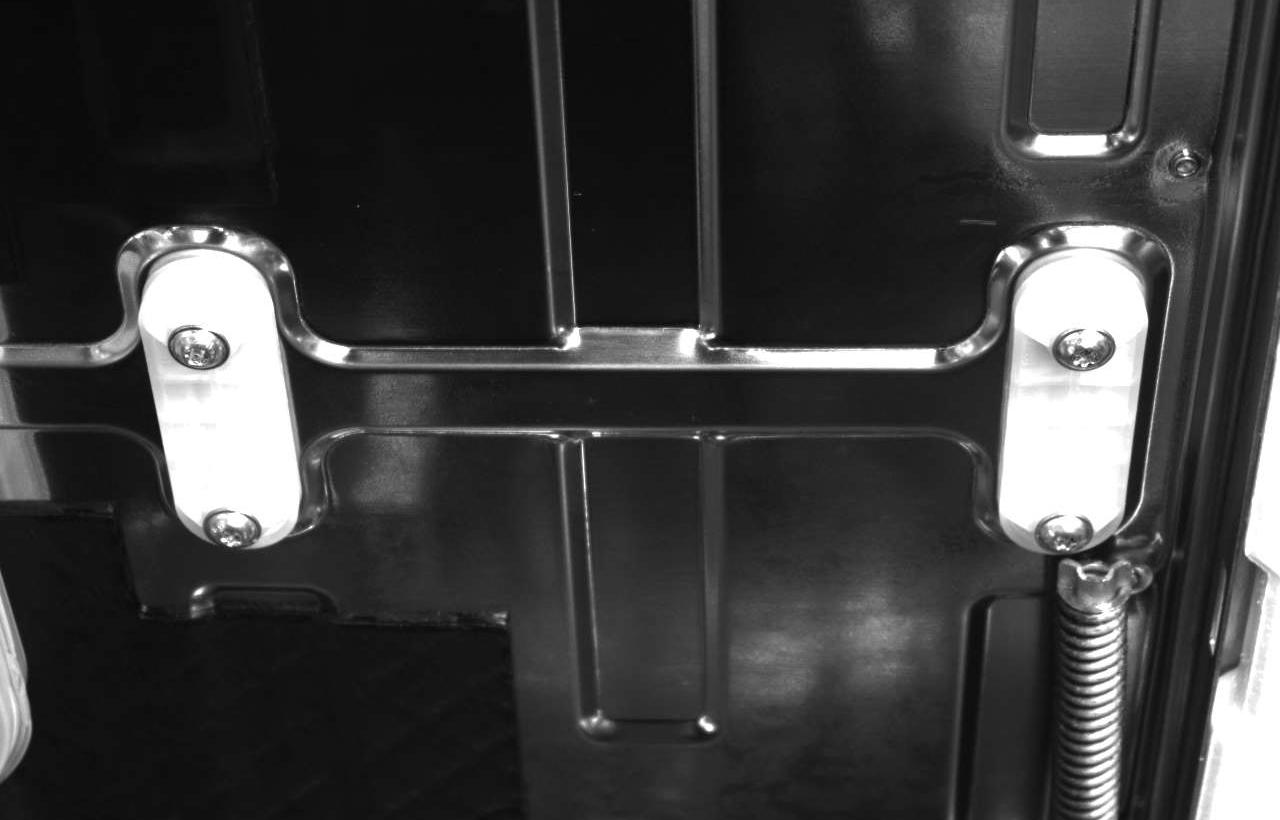vida-ok: (154, 307, 241, 385), (1033, 312, 1120, 385), (197, 497, 274, 562), (1020, 498, 1095, 557)
